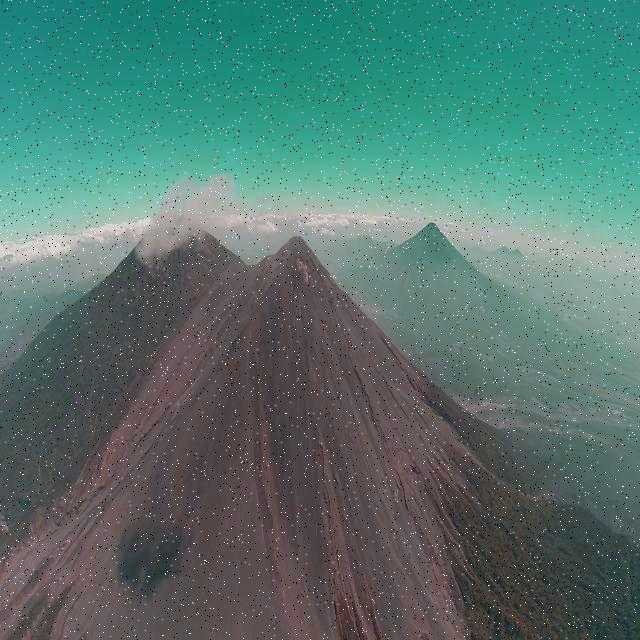Plume: (132, 169, 246, 268)
Summit: (255, 234, 338, 292)
